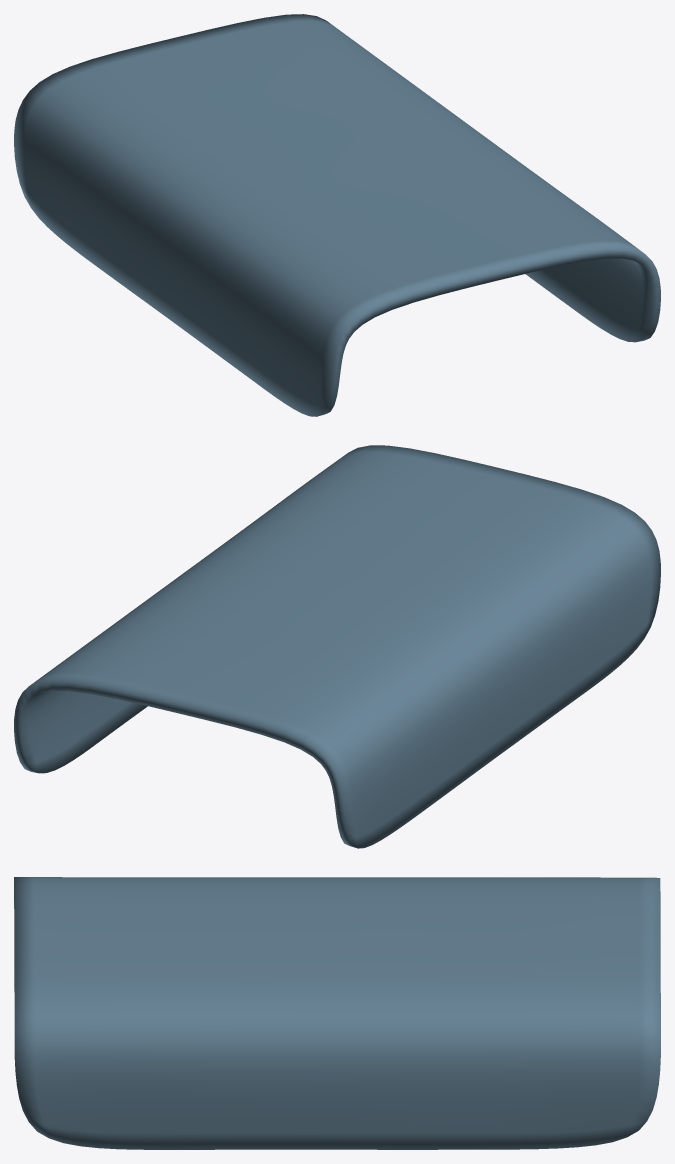
File: bedspread.fbx
3 views of the same model, one above another, from view 1: azimuth 30°, elevation 25°; view 2: azimuth 150°, elevation 25°; view 3: azimuth 270°, elevation 25° (orthographic).
Parts seen in each view (by area): view 1: päiväpeitto; view 2: päiväpeitto; view 3: päiväpeitto.
Part boxes in pixels (bbox=[...]): päiväpeitto: bbox=[14, 14, 660, 416]; päiväpeitto: bbox=[14, 445, 660, 848]; päiväpeitto: bbox=[14, 877, 660, 1149].
Size of the model in its own units: 97.88 by 38.29 by 165.
